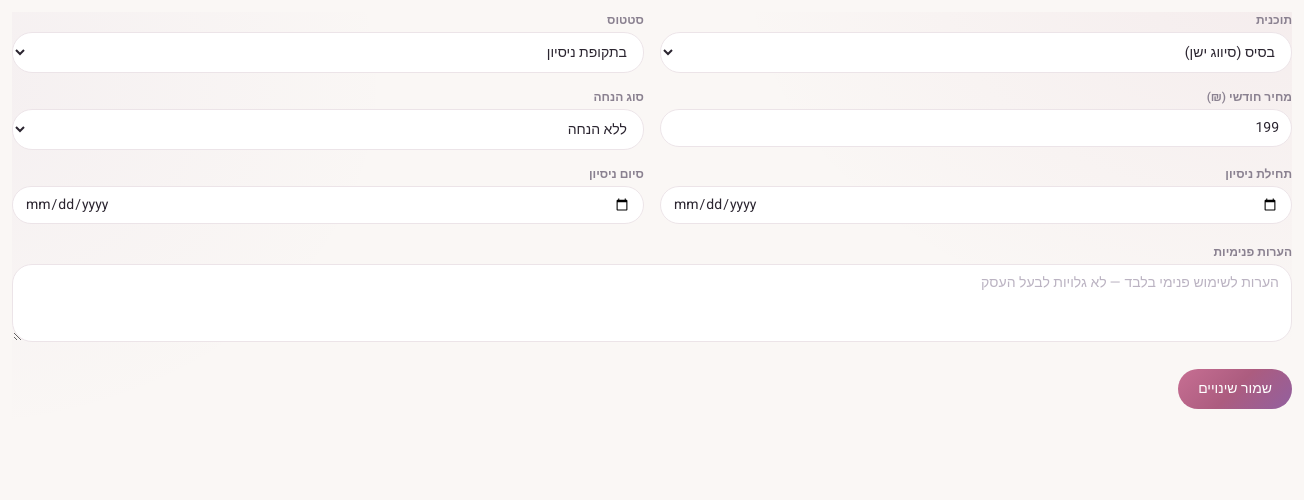
Test: SubscriptionForm › reveals the discount value + note fields when a discount type is chosen
Select "אחוז (%)" in the dropdown showing "ללא הנחה" below "סוג הנחה" at coordinates (328, 130), box x1=12 y1=109 x2=644 y2=150
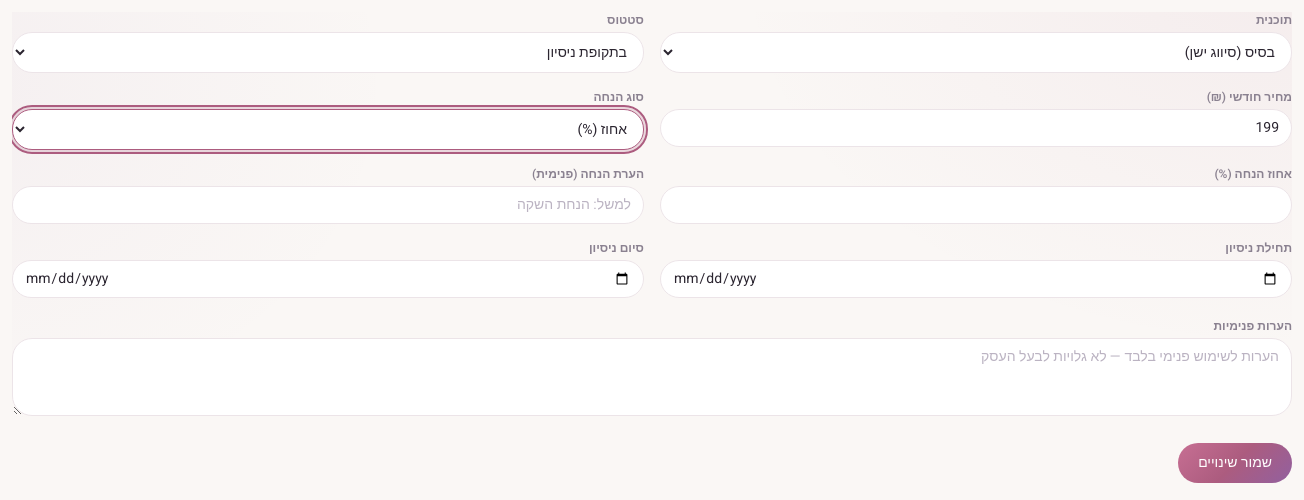
Now the text "אחוז הנחה (%)" is shown, box x1=1214 y1=165 x2=1292 y2=183
Now the text "הערת הנחה (פנימית)" is shown, box x1=532 y1=165 x2=644 y2=183
